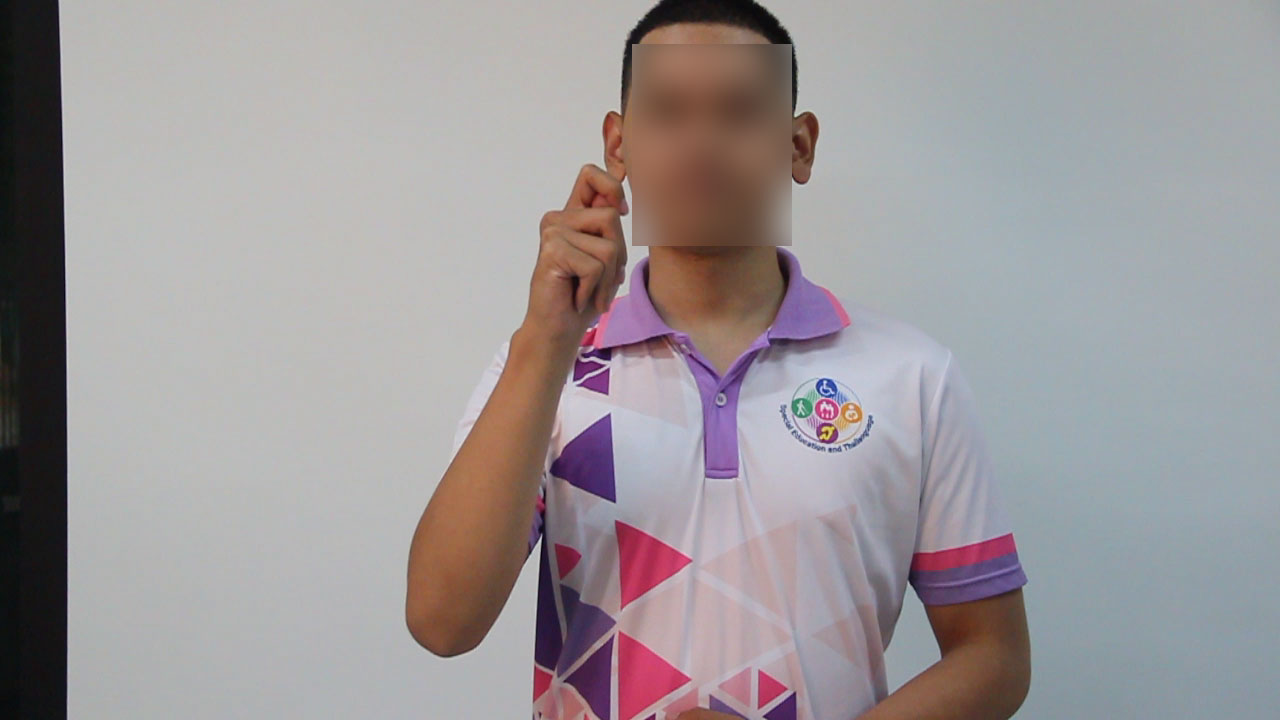or: (522, 158, 641, 355)
